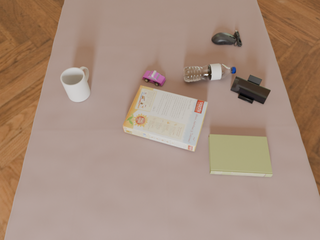book: (209, 134, 272, 177)
bottle: (183, 64, 236, 82)
box: (123, 86, 208, 151)
cup: (61, 67, 90, 102)
mouse: (212, 30, 242, 46)
phone: (231, 76, 271, 104)
toy_car: (142, 71, 165, 86)
